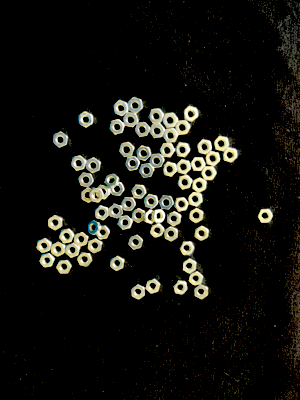nut: (78, 112, 94, 129), (109, 119, 125, 136), (113, 100, 129, 117), (149, 123, 166, 139), (36, 238, 52, 254), (87, 238, 103, 254), (145, 278, 161, 294), (123, 112, 139, 128), (119, 142, 135, 158), (136, 146, 152, 162), (175, 120, 191, 136), (183, 106, 199, 122), (177, 175, 193, 191), (214, 136, 230, 152), (39, 253, 56, 268), (128, 97, 143, 114), (159, 143, 176, 158), (222, 148, 239, 163), (257, 209, 274, 224), (48, 215, 63, 231), (77, 252, 93, 267), (53, 132, 68, 148), (78, 173, 94, 188), (86, 158, 101, 174), (81, 188, 96, 204), (96, 185, 111, 201), (104, 174, 120, 189), (109, 204, 124, 220), (128, 235, 144, 250), (131, 284, 146, 300), (121, 197, 137, 212), (131, 185, 147, 200), (135, 122, 150, 138), (148, 109, 164, 124), (125, 156, 141, 171), (151, 208, 166, 224), (159, 195, 175, 210), (167, 211, 182, 227), (189, 208, 204, 224), (163, 113, 178, 129), (175, 143, 191, 158), (197, 140, 213, 155), (201, 166, 217, 181), (206, 151, 221, 167), (51, 242, 66, 257), (57, 259, 72, 274), (59, 229, 74, 244), (65, 243, 80, 258), (74, 232, 89, 247), (71, 156, 86, 171), (110, 182, 125, 197), (96, 225, 111, 240), (94, 206, 109, 221), (110, 256, 125, 271), (173, 280, 188, 295), (118, 215, 133, 230), (150, 224, 165, 239), (164, 227, 179, 242), (189, 271, 204, 286), (194, 226, 209, 241), (174, 197, 189, 212), (188, 192, 203, 207), (162, 162, 177, 177), (177, 160, 192, 175), (192, 178, 207, 193), (88, 189, 104, 203), (87, 220, 101, 236), (139, 164, 155, 178), (132, 208, 146, 224), (149, 154, 165, 168), (163, 129, 179, 143), (194, 285, 208, 300), (183, 259, 197, 274), (180, 242, 195, 256), (191, 158, 206, 172), (144, 195, 158, 209), (143, 210, 156, 225)
